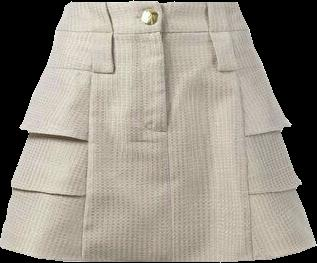Hemline: (0, 245, 81, 262), (253, 242, 316, 261), (10, 184, 86, 196), (19, 126, 87, 139), (247, 182, 302, 195), (245, 123, 292, 137)
Waistline: (231, 32, 255, 262), (81, 33, 93, 262), (54, 29, 249, 34), (67, 0, 237, 4)
